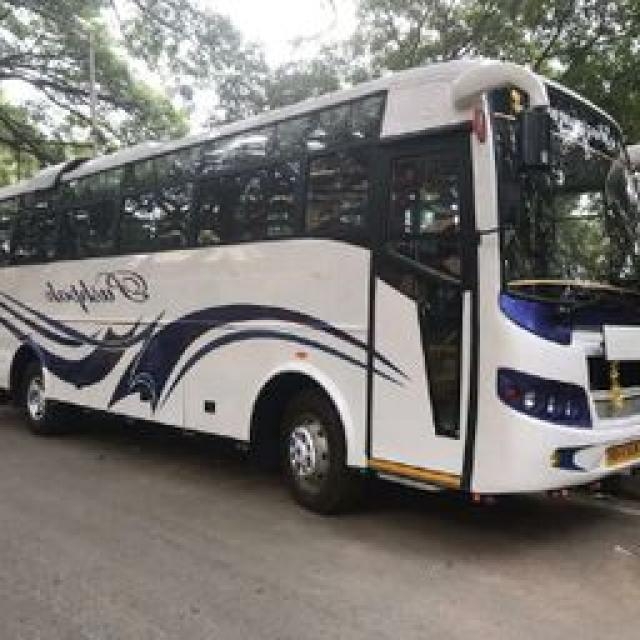bus: (0, 60, 640, 511)
